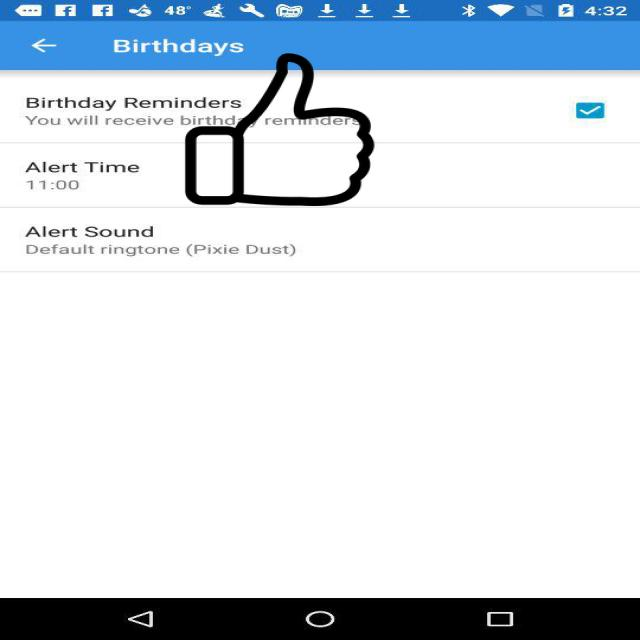privacy zuckering: (182, 53, 377, 206)
